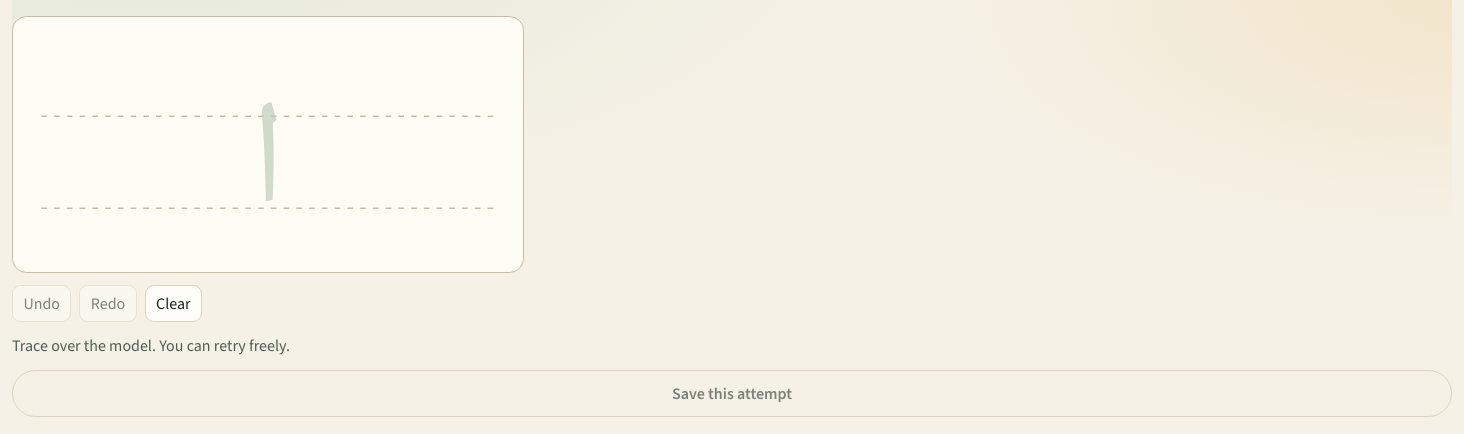
Test: keeps completed pointer strokes as arrays when React batches pointer updates
The width and height of the screenshot is (1464, 434).
Press the mouse on the picture named "Tracing canvas for ا" at (268, 144), box [12, 16, 524, 273]
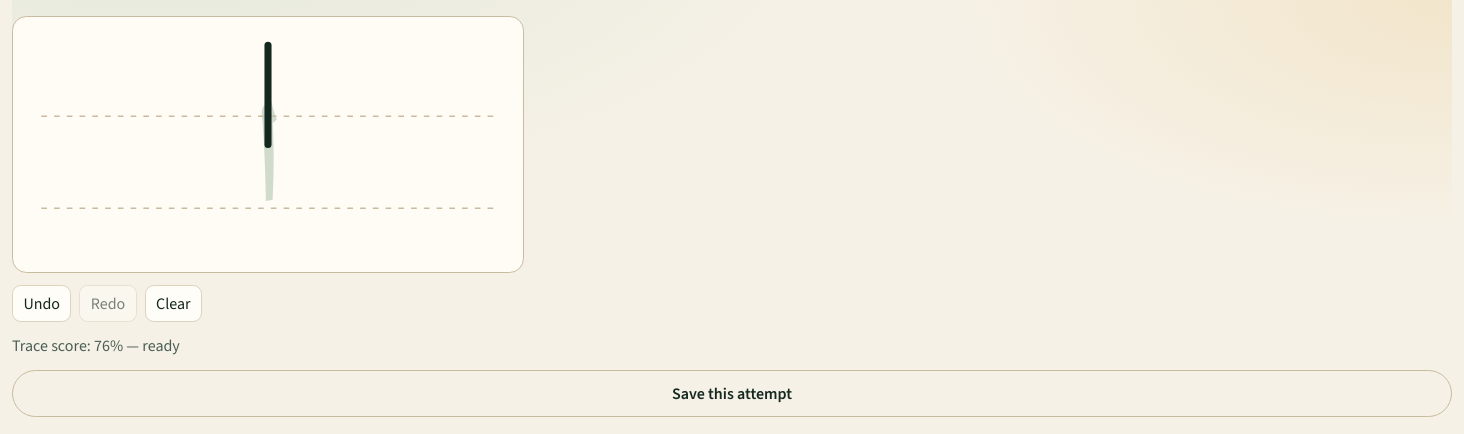
Check: the text "Trace score: 76% — ready" is shown, box [12, 335, 180, 356]
